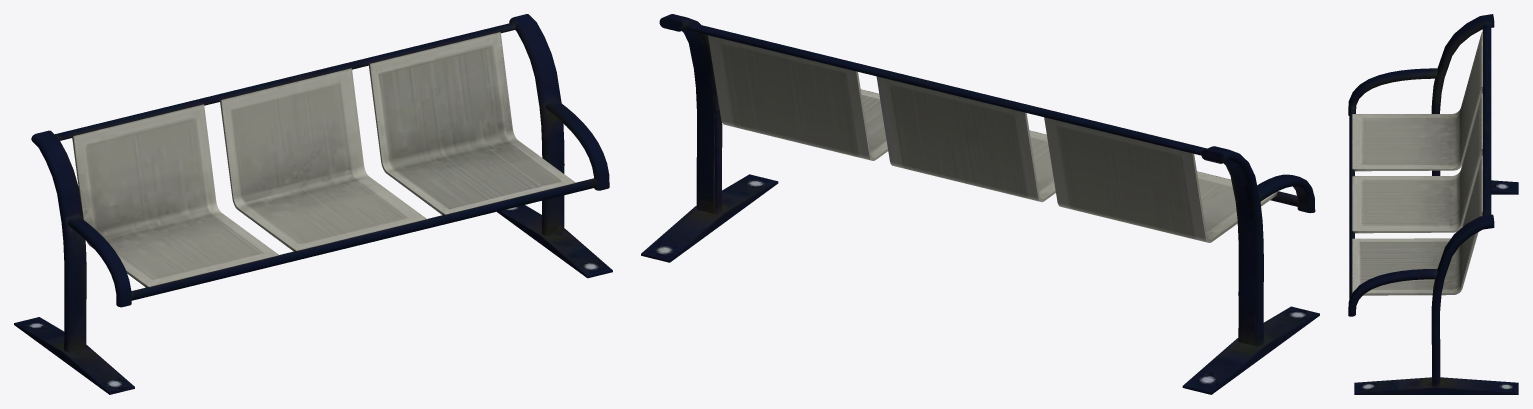
The model's file is bench.glb.
3 renders of one model, left to right at view 1: azimuth 30°, elevation 25°; view 2: azimuth 150°, elevation 25°; view 3: azimuth 270°, elevation 25°, orthographic. The views are drawn at different scales.
Parts seen in each view (by area): view 1: Cube_Material.001_0; view 2: Cube_Material.001_0; view 3: Cube_Material.001_0.
Boxes of the visible parts, box(x1,y1,x2,y2) form: Cube_Material.001_0: box(14, 14, 612, 394); Cube_Material.001_0: box(641, 14, 1319, 394); Cube_Material.001_0: box(1348, 14, 1518, 394).
Bounding box in the file's own units: 2.38 × 0.9075 × 0.8136.
Materials: 1 (1 with a texture image).
